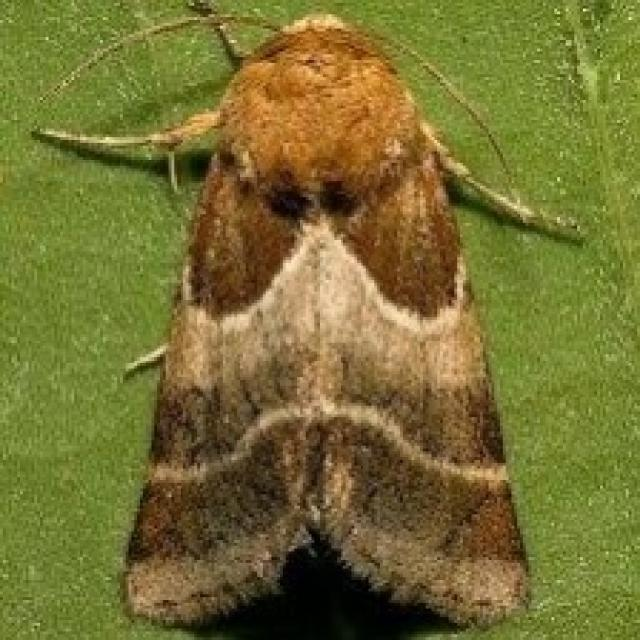butterfly: (28, 0, 586, 637)
